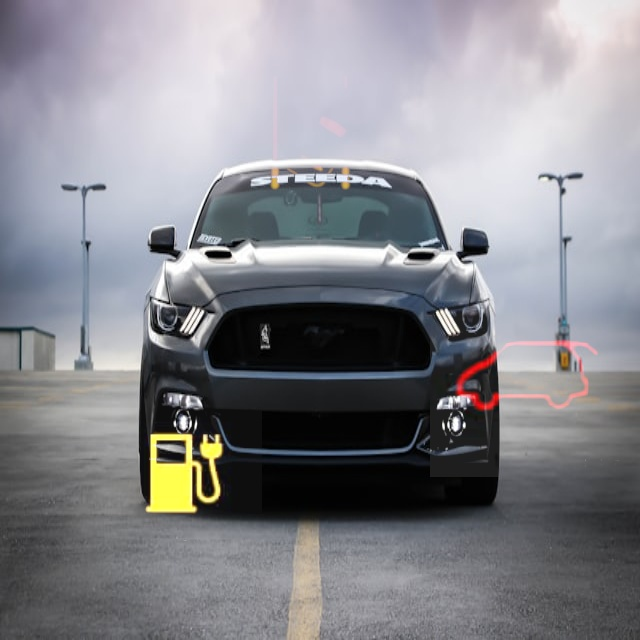symbol: (430, 279, 628, 477), (231, 47, 405, 221), (107, 397, 262, 552), (94, 52, 218, 176)
